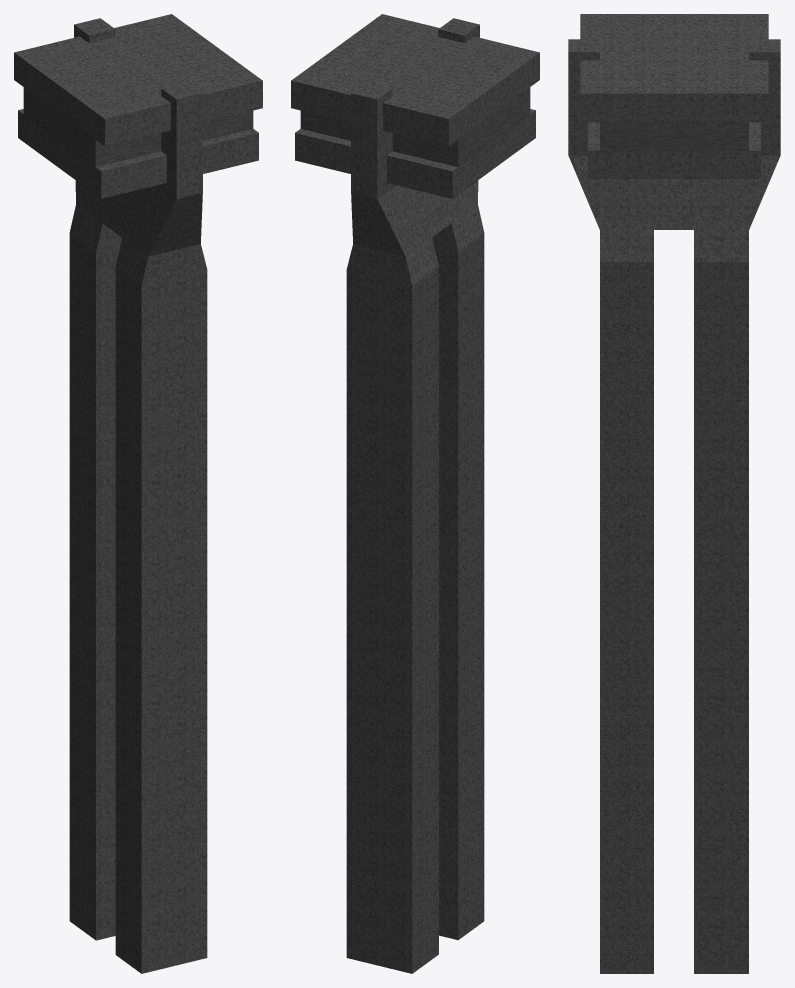
The model's file is MegaBridge1.fbx.
The picture shows the model from 3 angles, left to right: view 1: azimuth 30°, elevation 25°; view 2: azimuth 150°, elevation 25°; view 3: azimuth 270°, elevation 25°; orthographic projection. The views are drawn at different scales.
Parts seen in each view (by area): view 1: Cube.003, Cube.006; view 2: Cube.003, Cube.006; view 3: Cube.003, Cube.006.
Part boxes in pixels (box(x1,y1,x2,y2)): Cube.003: box(69, 18, 207, 973); Cube.006: box(14, 14, 262, 198); Cube.003: box(346, 18, 484, 973); Cube.006: box(291, 14, 539, 198); Cube.003: box(568, 39, 780, 973); Cube.006: box(580, 14, 768, 178).
Size of the model in its own units: 1200 by 6400 by 1350.
